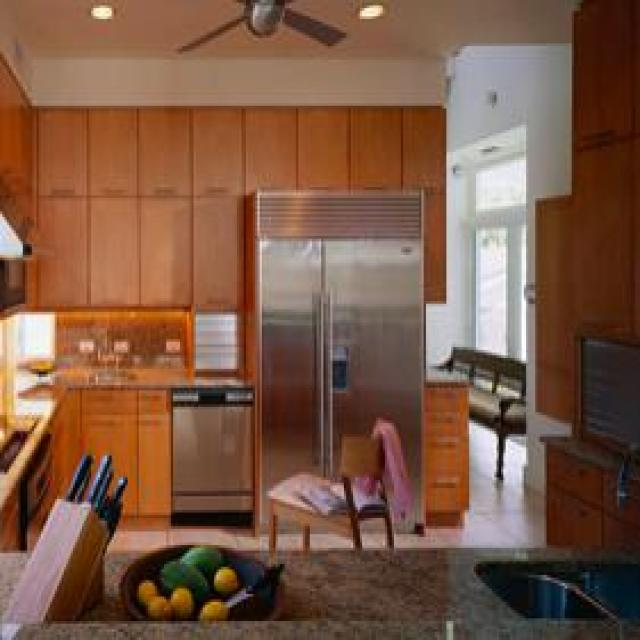dishwasher: (168, 385, 253, 515)
